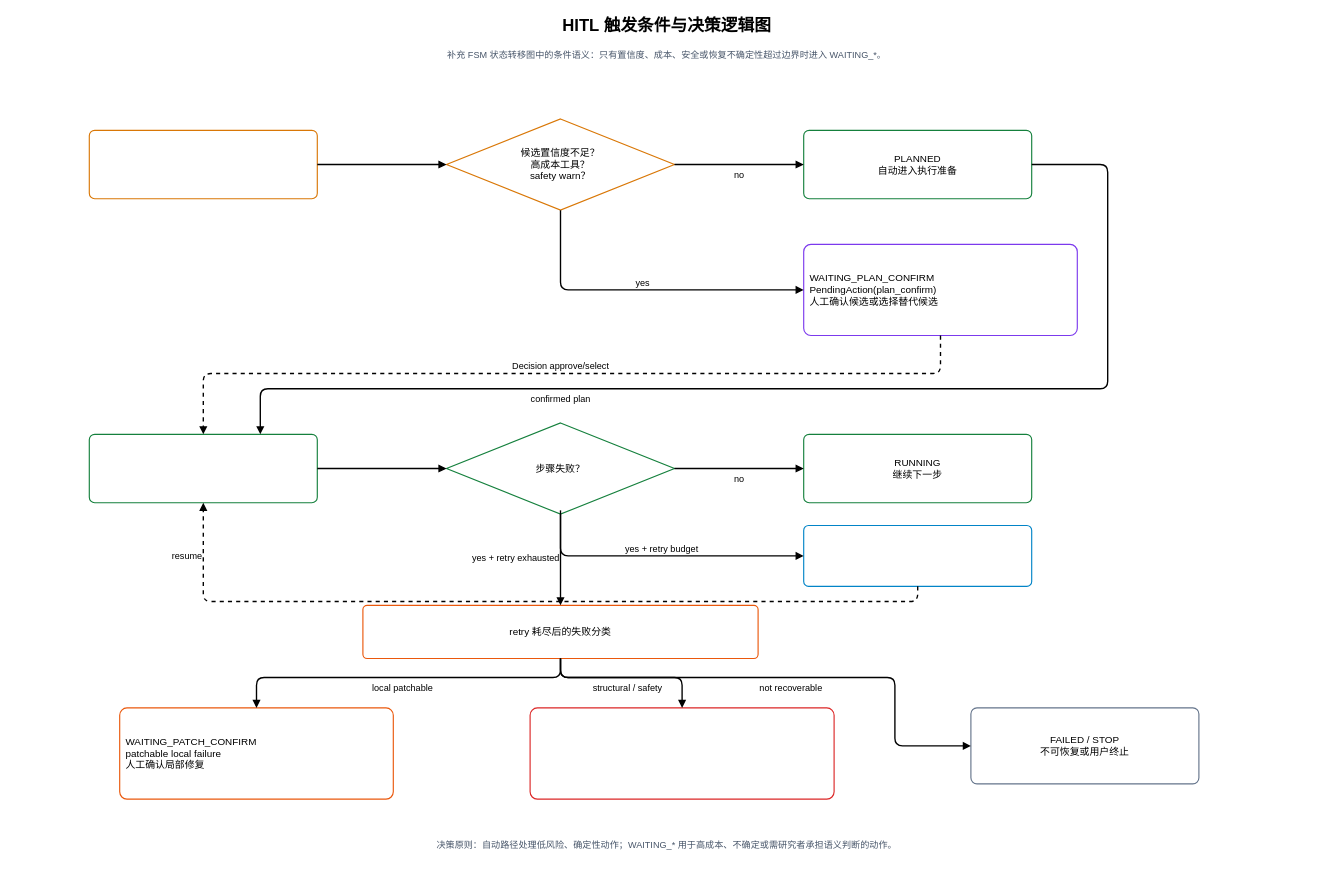
Image size: 1333x874. Some labels were removed from this diagram. The shapes that lost their labels are listed below. From the top down, each one's centre as x and y in pixels, then its label:
At point (203, 164): "PLANNING 生成 PlanCandidate Top-K".
At point (203, 468): "RUNNING StepRunner 执行当前步骤".
At point (917, 556): "retry 可用 自动重试".
At point (681, 753): "WAITING_REPLAN_CONFIRM 结构性失败或安全阻断 人工确认后缀重规划".
